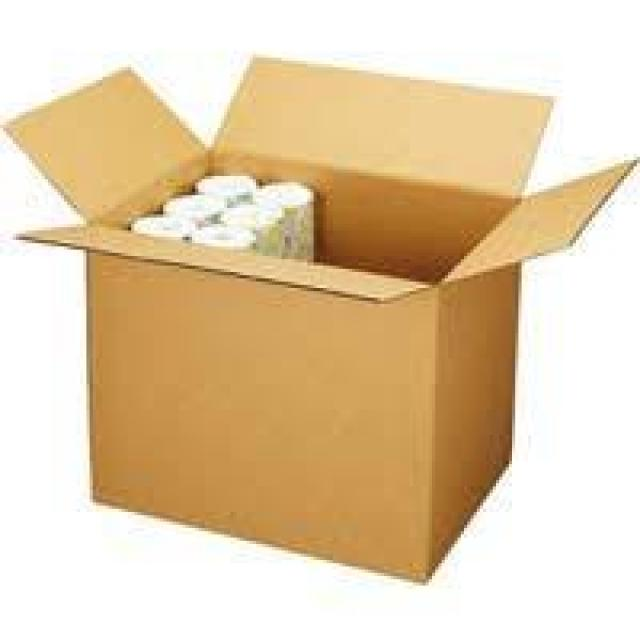box: (0, 52, 640, 584)
